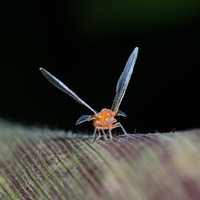insect: (39, 47, 138, 141)
